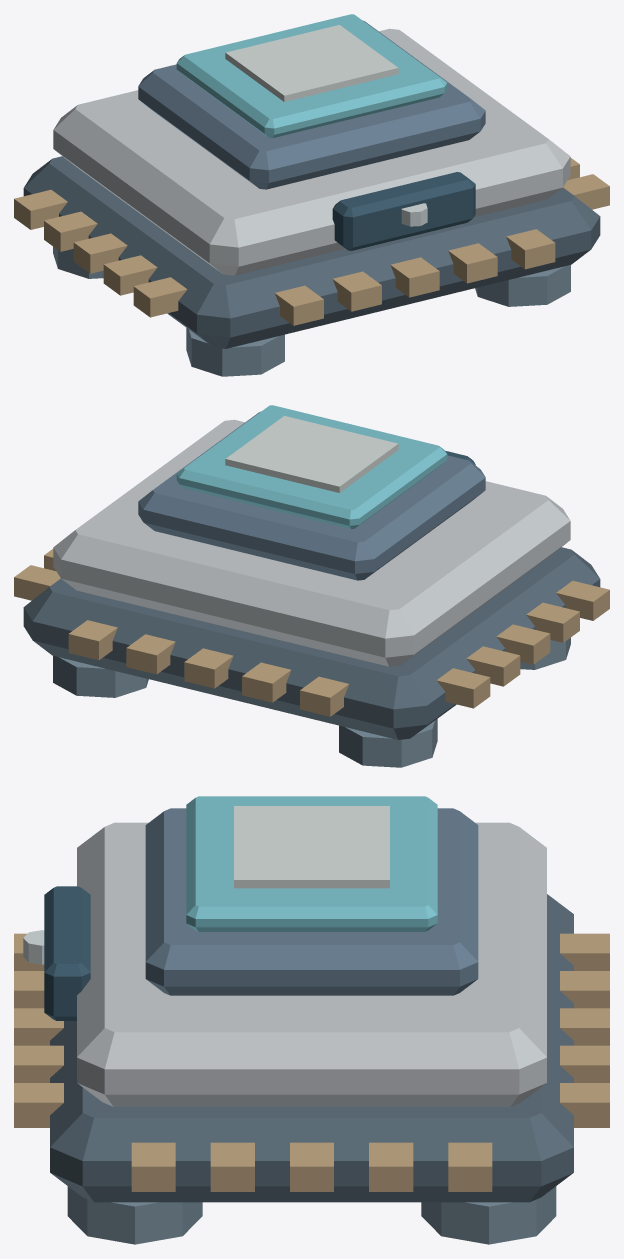
The model's file is probe.glb.
The picture shows the model from 3 angles, top to bottom: view 1: azimuth 30°, elevation 25°; view 2: azimuth 150°, elevation 25°; view 3: azimuth 270°, elevation 25°; orthographic projection. The views are drawn at different scales.
Parts seen in each view (by area): view 1: probe; view 2: probe; view 3: probe.
Part boxes in pixels (box(x1,y1,x2,y2)): probe: box(14, 14, 609, 376); probe: box(14, 405, 609, 767); probe: box(14, 796, 609, 1244).
Size of the model in its own units: 3.02 by 1.38 by 2.56.
